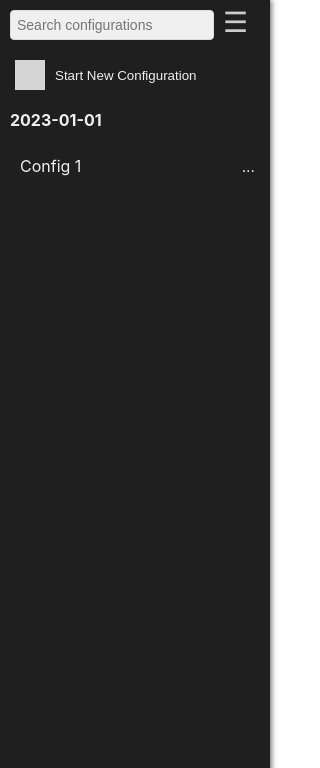
CompressionSidebarPanel › shows menu with Load, Edit, Download, and Delete (1.2.4)
Click the button "...". click: [248, 167]
box: 237,158 -> 260,176
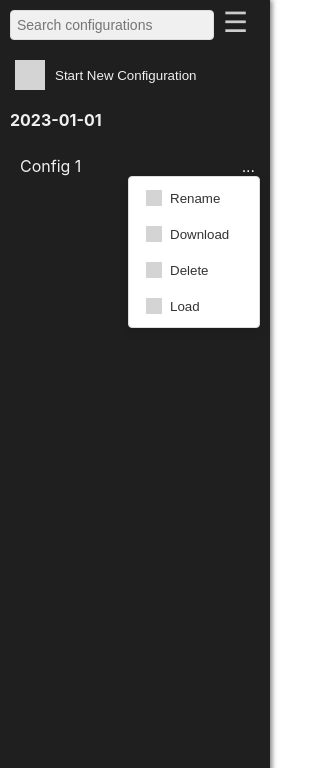
Result: the button "Load" is shown at 134,290 -> 254,322
Result: the button "Rename" is shown at 134,182 -> 254,214
Result: the button "Download" is shown at 134,218 -> 254,250
